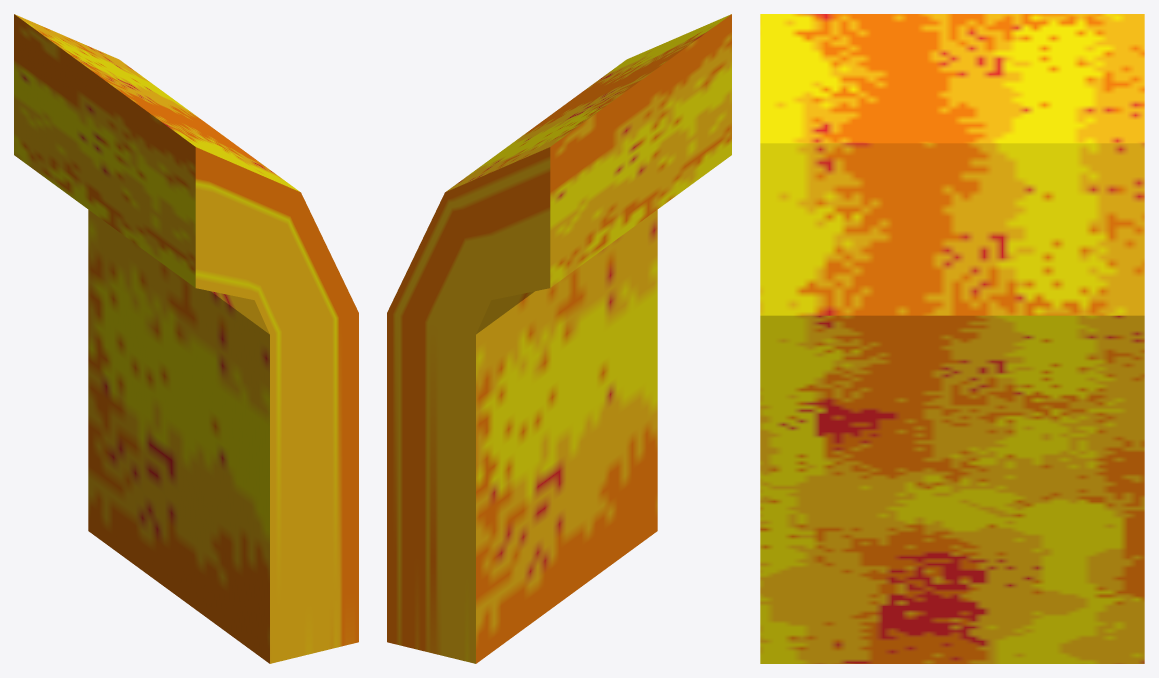
The model's file is lava.fbx.
3 views of the same model, side by side, from view 1: azimuth 30°, elevation 25°; view 2: azimuth 150°, elevation 25°; view 3: azimuth 270°, elevation 25° (orthographic). The views are drawn at different scales.
Visible parts, largest first — view 1: Cube; view 2: Cube; view 3: Cube.
Part boxes in pixels (box(x1,y1,x2,y2)): Cube: box(14, 14, 358, 663); Cube: box(387, 14, 731, 663); Cube: box(760, 14, 1144, 663).
Bounding box in the file's own units: 104 × 325 × 200.
